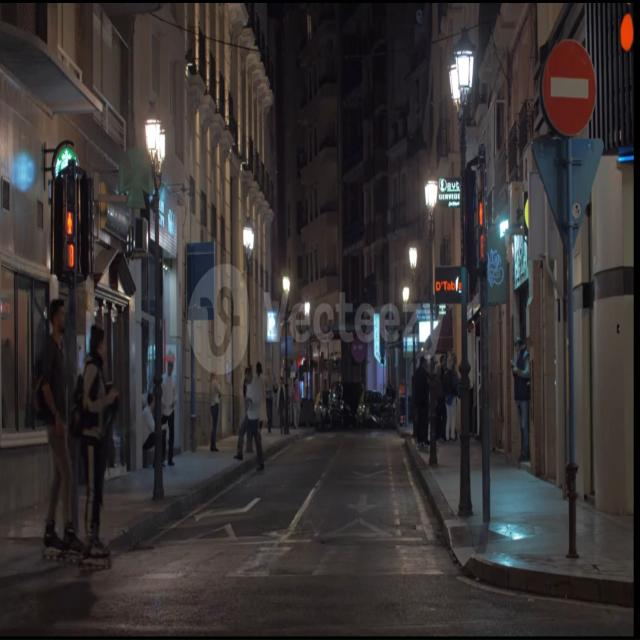pedestrian: (34, 299, 118, 564)
